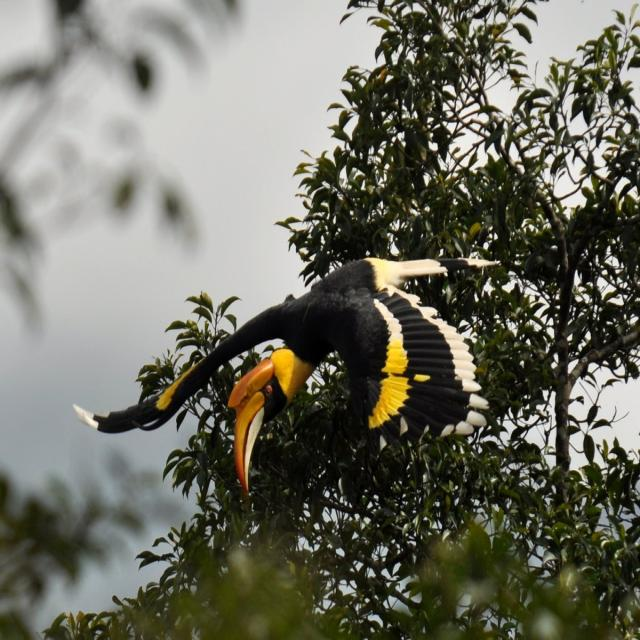Hornbill: (65, 244, 500, 502)
